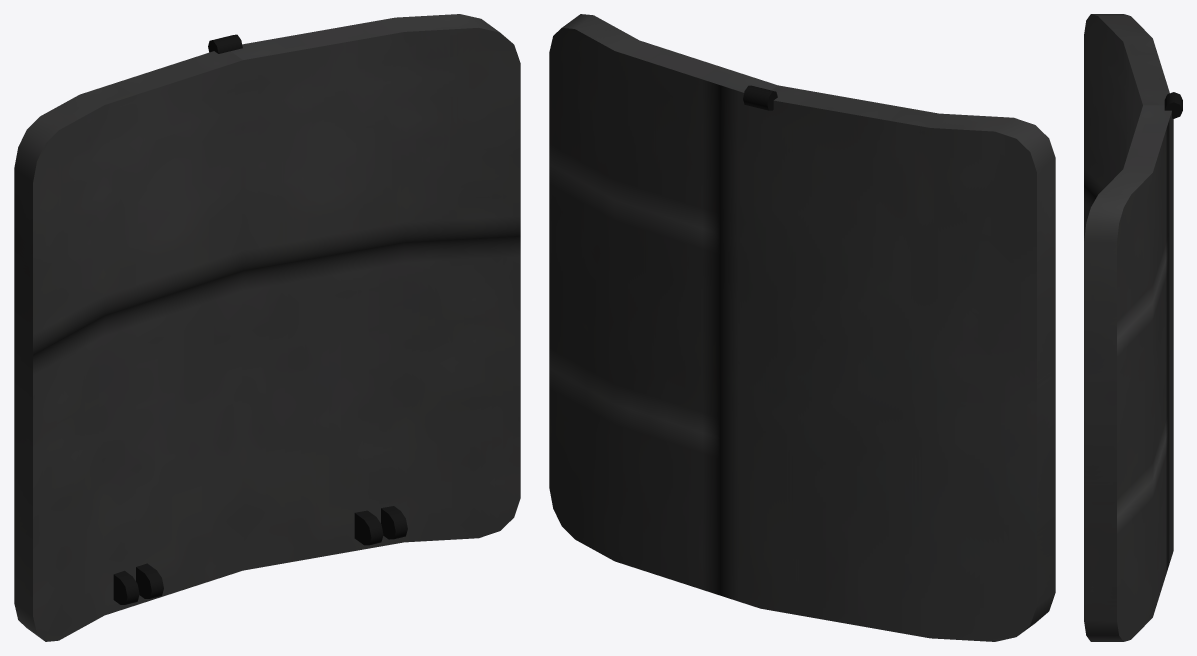
The model's file is cardoor.obj.
The picture shows the model from 3 angles, left to right: view 1: azimuth 30°, elevation 25°; view 2: azimuth 150°, elevation 25°; view 3: azimuth 270°, elevation 25°; orthographic projection. The views are drawn at different scales.
Visible parts, largest first — view 1: 1; view 2: 1; view 3: 1.
Part boxes in pixels (x1=…): 1: x1=14, y1=14, x2=520, y2=641; 1: x1=549, y1=14, x2=1055, y2=641; 1: x1=1084, y1=14, x2=1182, y2=641.
Size of the model in its own units: 1 by 1.02 by 0.2015.
